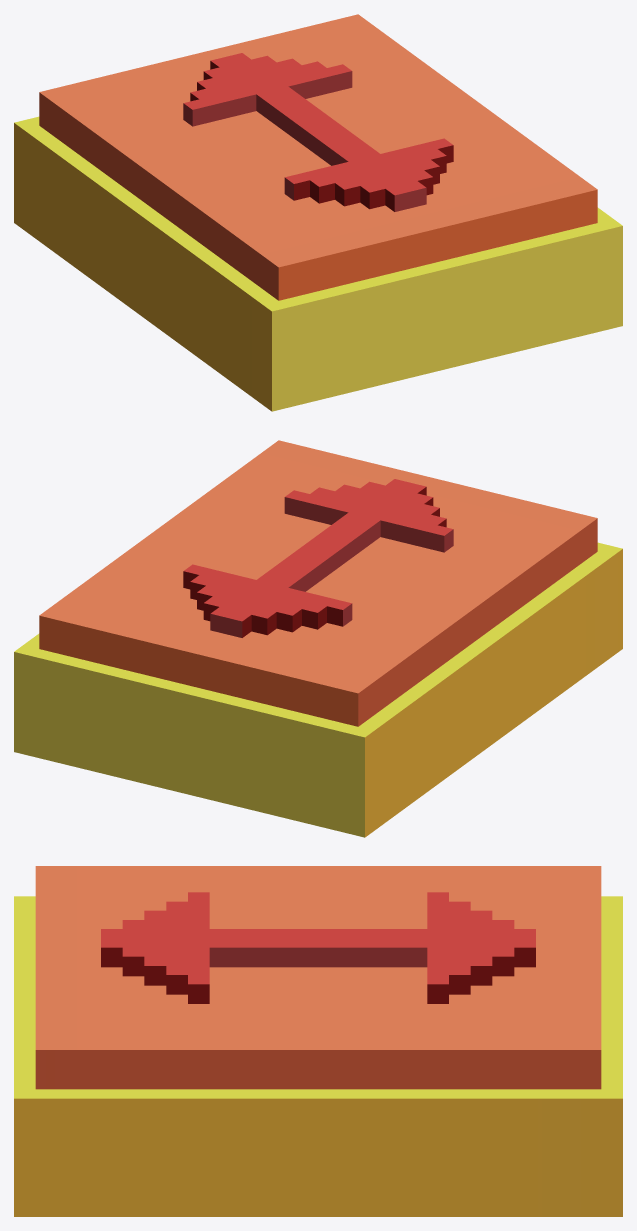
Rendered from movable_indicator.fbx.
3 views of the same model, one above another, from view 1: azimuth 30°, elevation 25°; view 2: azimuth 150°, elevation 25°; view 3: azimuth 270°, elevation 25° (orthographic). The views are drawn at different scales.
Parts seen in each view (by area): view 1: movable_indicator; view 2: movable_indicator; view 3: movable_indicator.
Boxes of the visible parts, bbox=[...] form: movable_indicator: bbox=[14, 14, 622, 411]; movable_indicator: bbox=[14, 440, 622, 837]; movable_indicator: bbox=[14, 866, 622, 1216].
Bounding box in the file's own units: 1.49 × 0.6111 × 1.9.
1 material, 1 textured.
